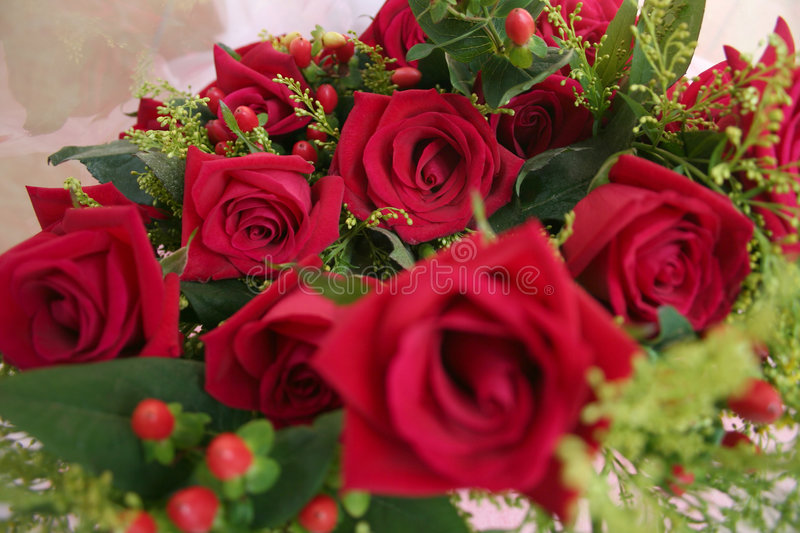RedRose: (338, 217, 638, 525), (563, 130, 757, 343), (8, 162, 187, 376), (170, 125, 360, 290), (326, 75, 524, 229), (195, 266, 366, 430)
